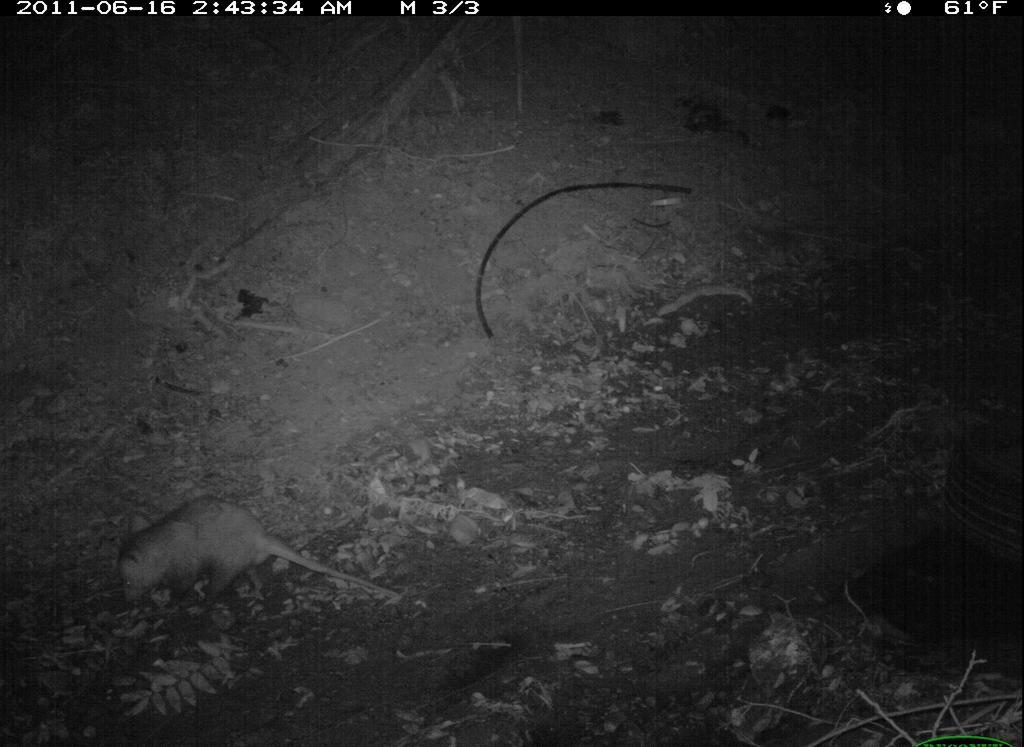opossum: (112, 497, 411, 648)
